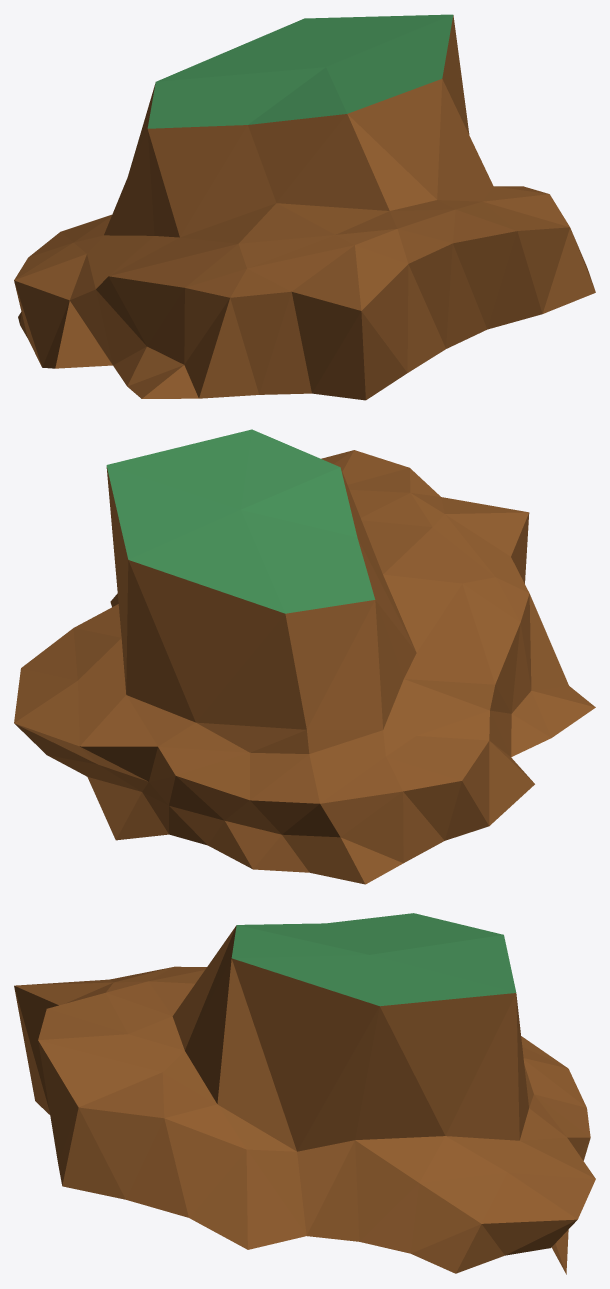
File: big_forest_relief_2.fbx
3 views of the same model, one above another, from view 1: azimuth 30°, elevation 25°; view 2: azimuth 150°, elevation 25°; view 3: azimuth 270°, elevation 25° (orthographic). The views are drawn at different scales.
Visible parts, largest first — view 1: Icosphere.247; view 2: Icosphere.247; view 3: Icosphere.247.
Part boxes in pixels (<box>): Icosphere.247: <box>14,14,595,400</box>; Icosphere.247: <box>14,429,595,884</box>; Icosphere.247: <box>14,913,595,1274</box>.
Size of the model in its own units: 1600 by 971 by 1575.
